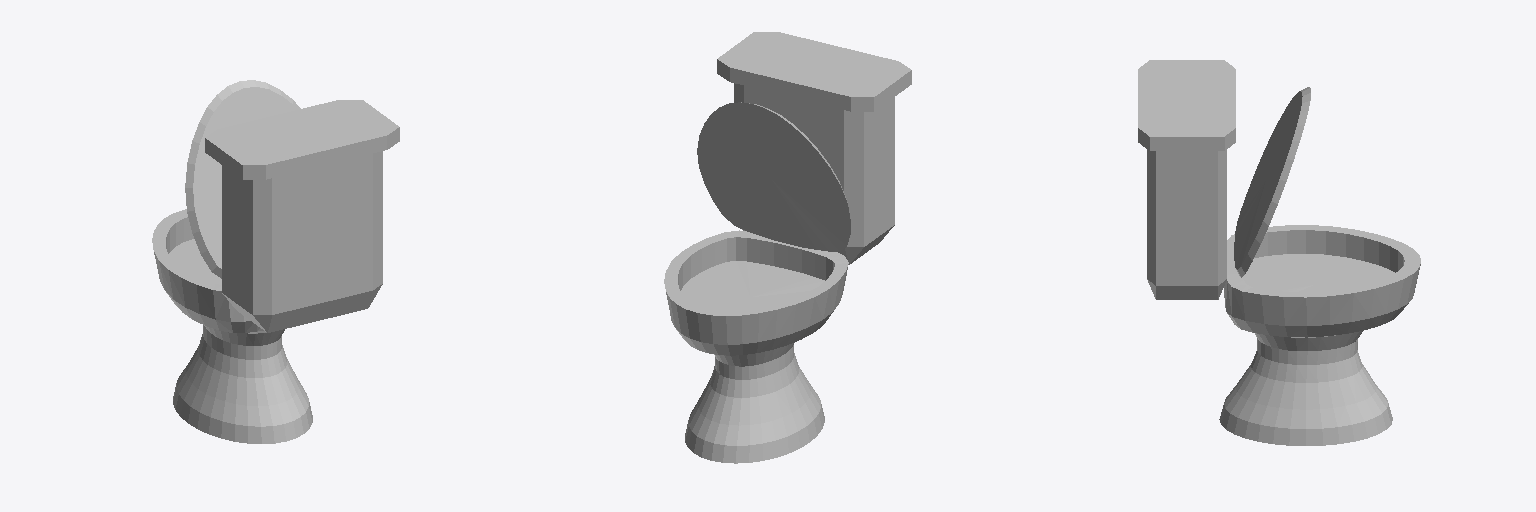
Rendered from toilet.obj.
The picture shows the model from 3 angles: view 1: azimuth 30°, elevation 25°; view 2: azimuth 150°, elevation 25°; view 3: azimuth 270°, elevation 25°; orthographic projection.
Visible parts, largest first — view 1: Cube_Cube.001, Cylinder, Cylinder.001; view 2: Cylinder, Cube_Cube.001, Cylinder.001; view 3: Cylinder, Cube_Cube.001, Cylinder.001.
Boxes of the visible parts, x1=… form: Cube_Cube.001: x1=205, y1=100, x2=399, y2=332; Cylinder: x1=152, y1=209, x2=312, y2=443; Cylinder.001: x1=185, y1=80, x2=300, y2=278; Cylinder: x1=664, y1=230, x2=848, y2=463; Cube_Cube.001: x1=717, y1=32, x2=911, y2=264; Cylinder.001: x1=697, y1=102, x2=850, y2=251; Cylinder: x1=1219, y1=225, x2=1420, y2=445; Cube_Cube.001: x1=1138, y1=60, x2=1235, y2=299; Cylinder.001: x1=1234, y1=87, x2=1310, y2=277.
Size of the model in its own units: 1.54 by 3.07 by 2.41.